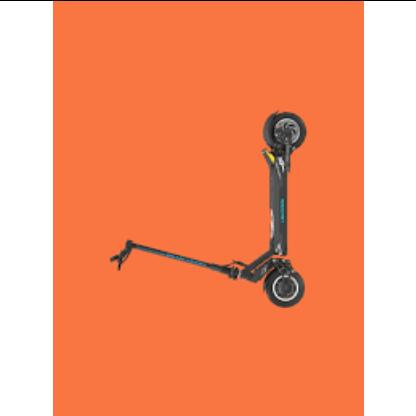bike: (110, 111, 308, 309)
